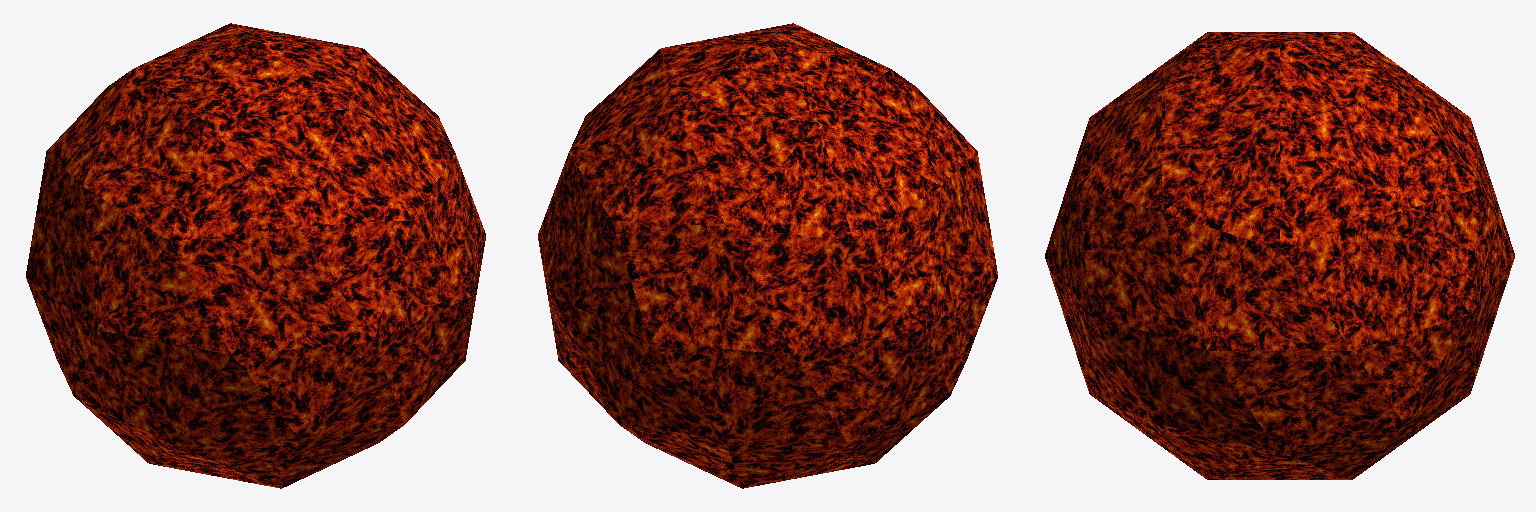
3 views of the same model, side by side, from view 1: azimuth 30°, elevation 25°; view 2: azimuth 150°, elevation 25°; view 3: azimuth 270°, elevation 25° (orthographic).
Parts seen in each view (by area): view 1: Icosphere; view 2: Icosphere; view 3: Icosphere.
Boxes of the visible parts, <box> form: Icosphere: <box>26,23,485,488</box>; Icosphere: <box>538,23,997,488</box>; Icosphere: <box>1045,32,1514,479</box>.
Size of the model in its own units: 1.9 by 2 by 2.
Materials: 1 (1 with a texture image).